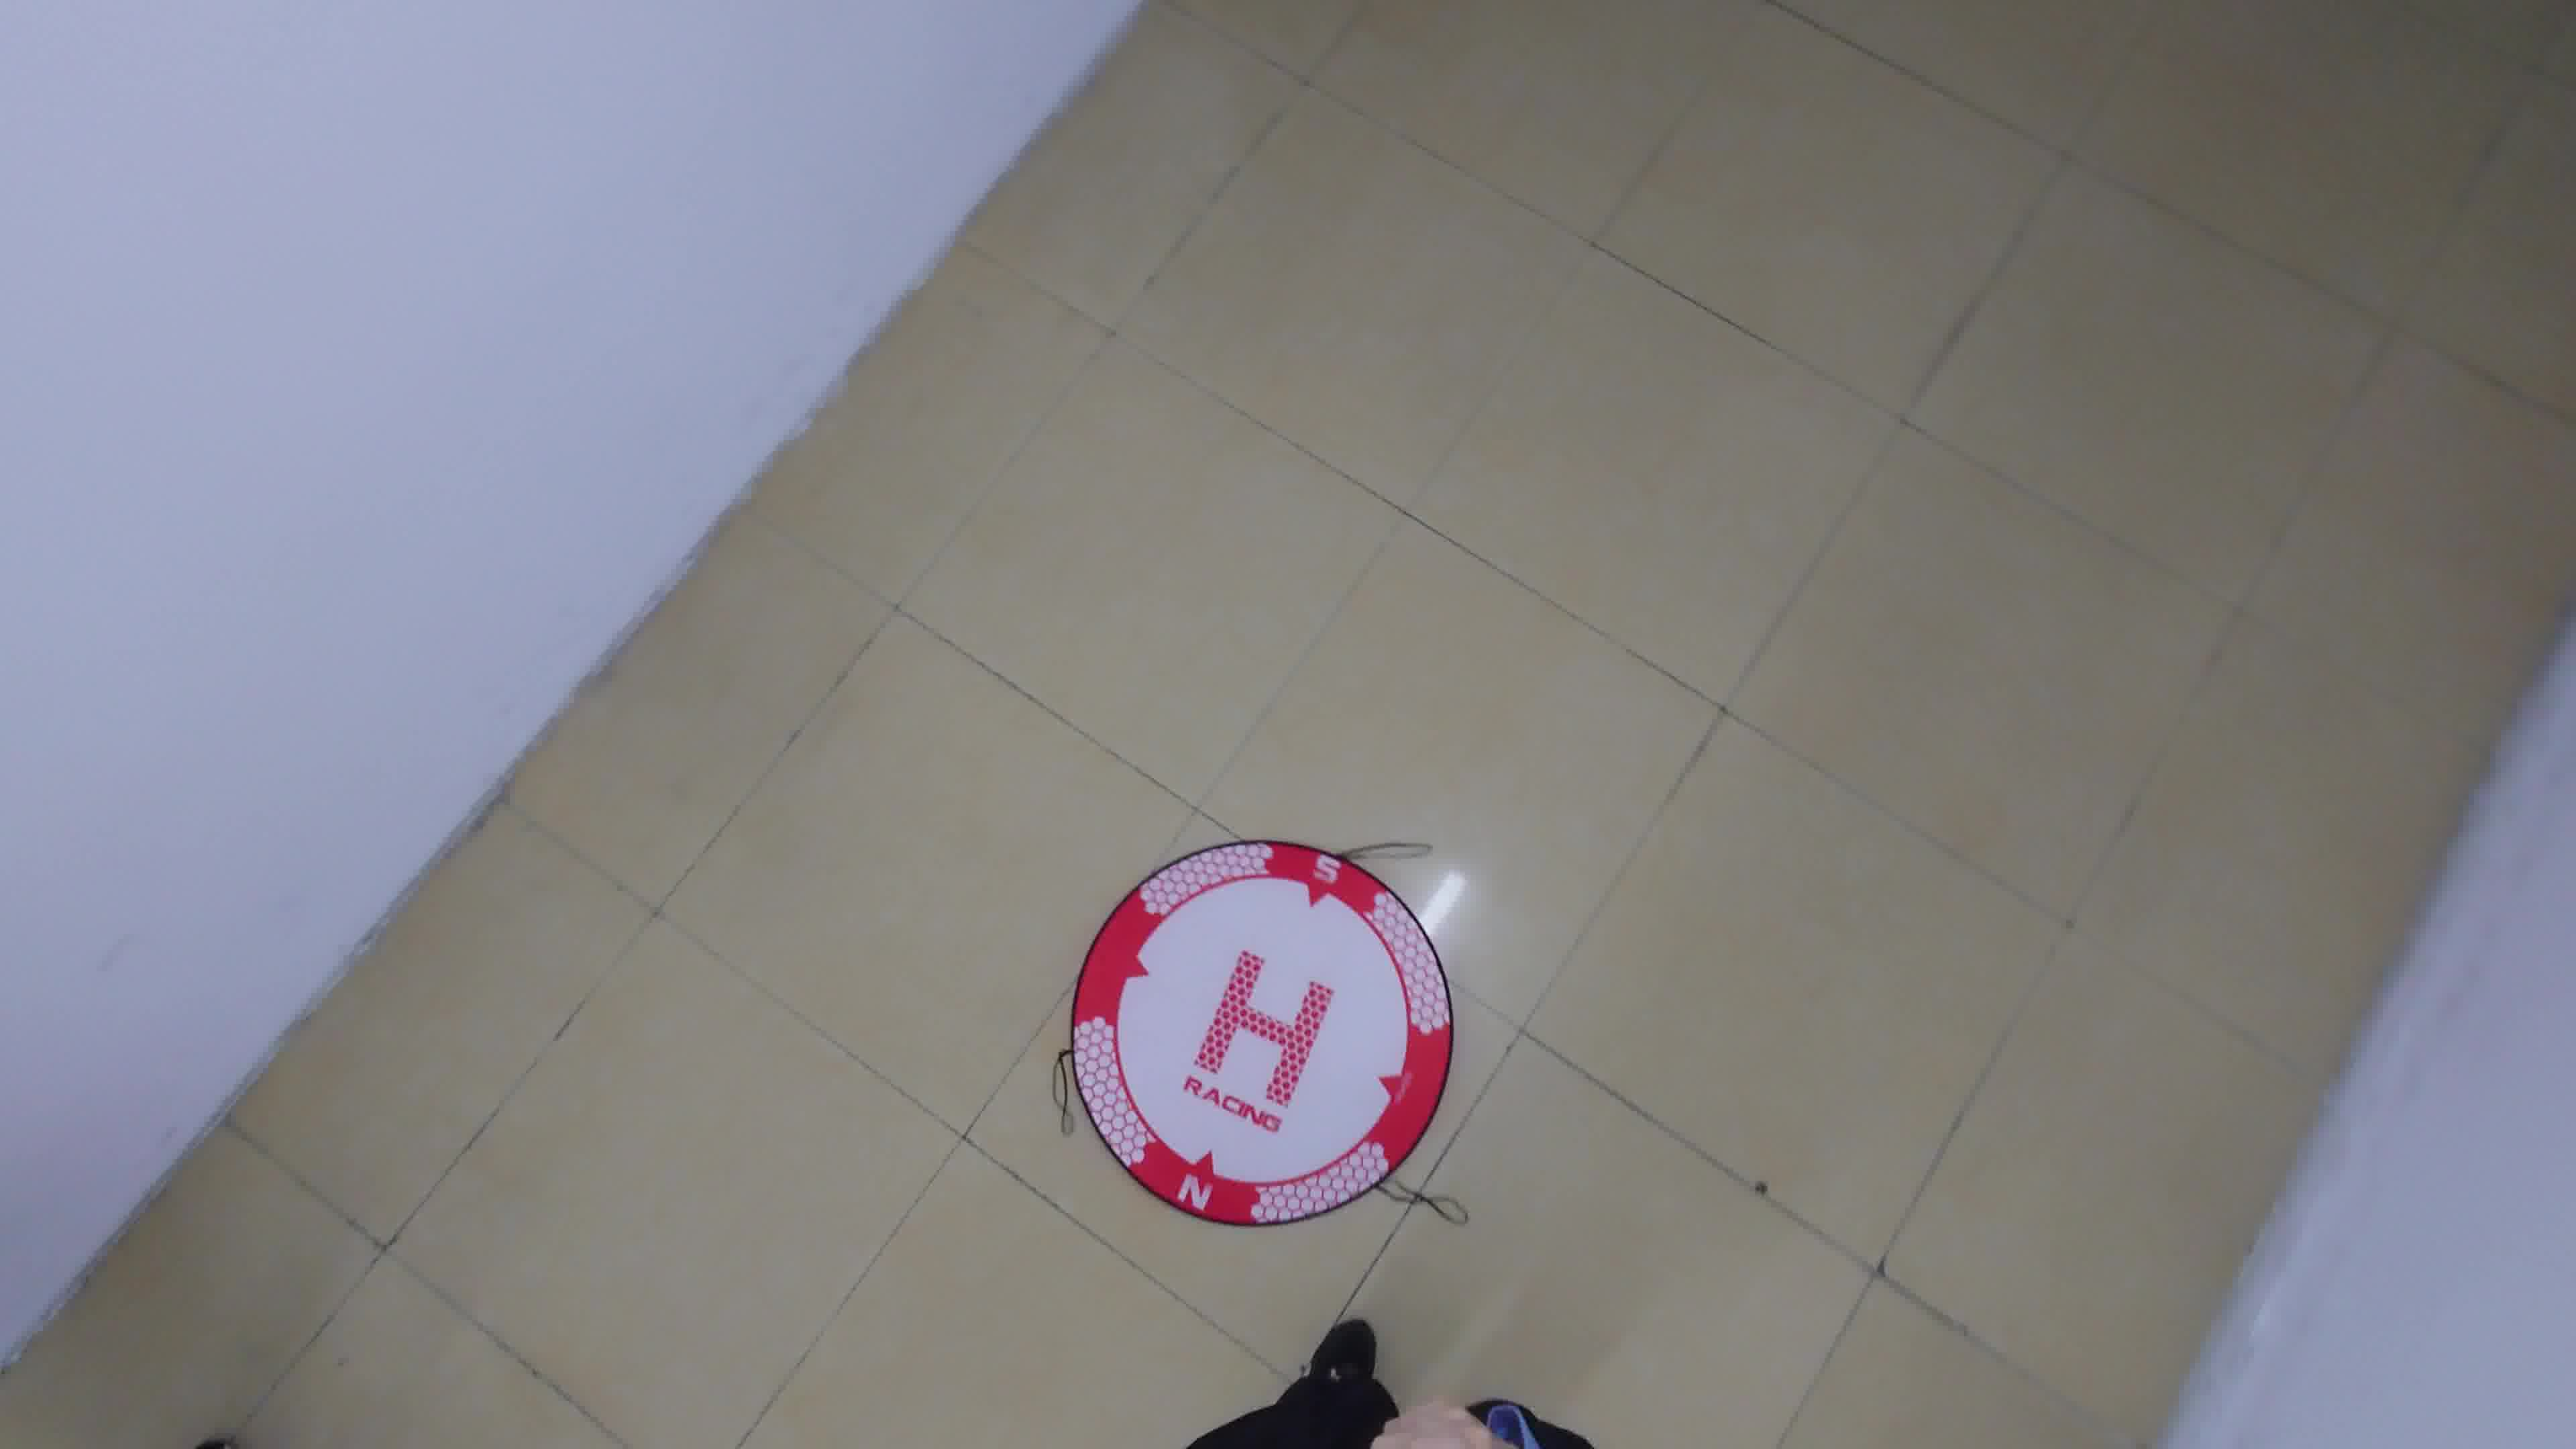H: (1192, 950, 1336, 1109)
